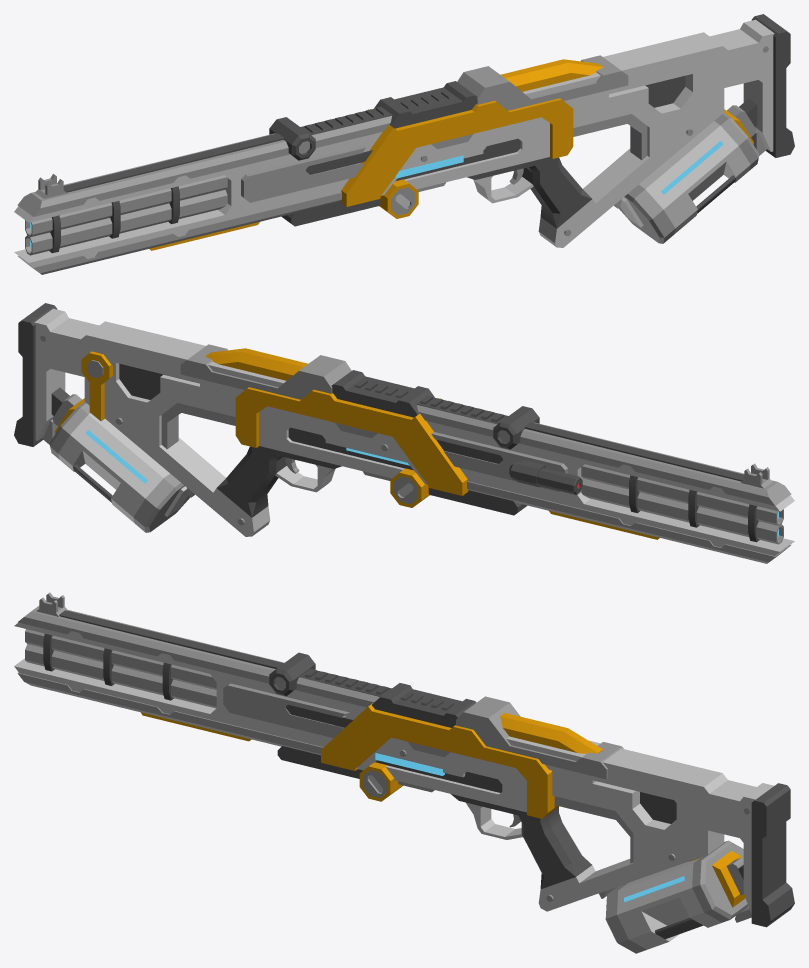
Rendered from SM_LMG01.fbx.
3 renders of one model, top to bottom at view 1: azimuth 30°, elevation 25°; view 2: azimuth 150°, elevation 25°; view 3: azimuth 330°, elevation 25°, orthographic.
Visible parts, largest first — view 1: SM_LMG01, SM_LMG01_Battery; view 2: SM_LMG01, SM_LMG01_Battery, SM_LMG01_Laser; view 3: SM_LMG01, SM_LMG01_Battery.
Part boxes in pixels (bbox=[...]): SM_LMG01: bbox=[14, 14, 794, 274]; SM_LMG01_Battery: bbox=[618, 109, 758, 243]; SM_LMG01: bbox=[14, 303, 794, 563]; SM_LMG01_Battery: bbox=[50, 398, 190, 532]; SM_LMG01_Laser: bbox=[509, 460, 582, 494]; SM_LMG01: bbox=[14, 592, 794, 927]; SM_LMG01_Battery: bbox=[605, 840, 748, 953].
Size of the model in its own units: 114 by 28.87 by 12.14.
